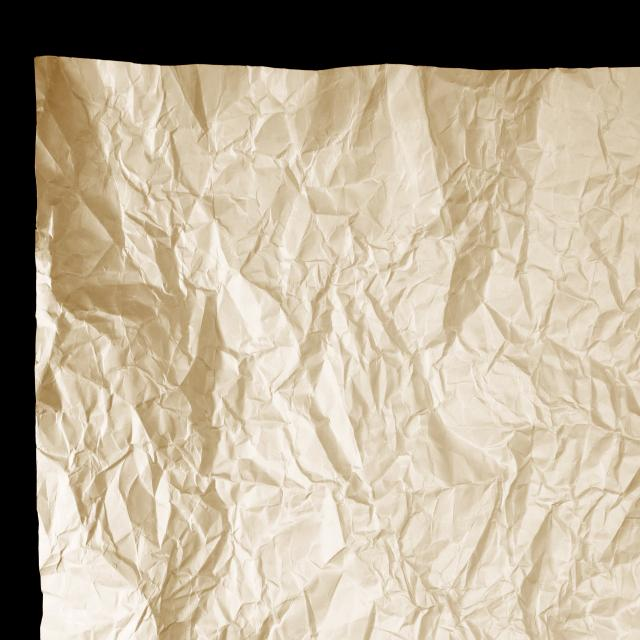paper: (152, 161, 581, 612)
